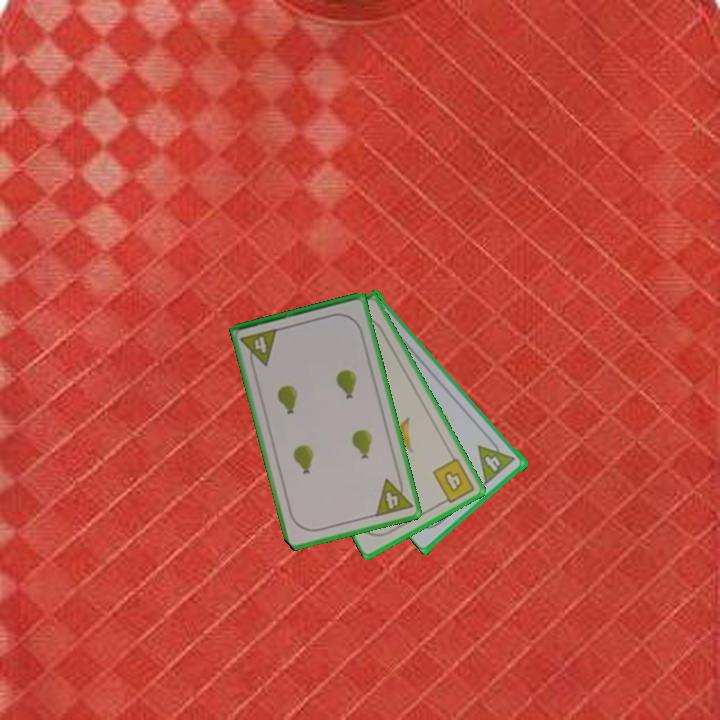4b: (429, 454, 478, 508)
4p: (474, 434, 518, 487), (372, 472, 415, 520), (237, 325, 281, 371)
